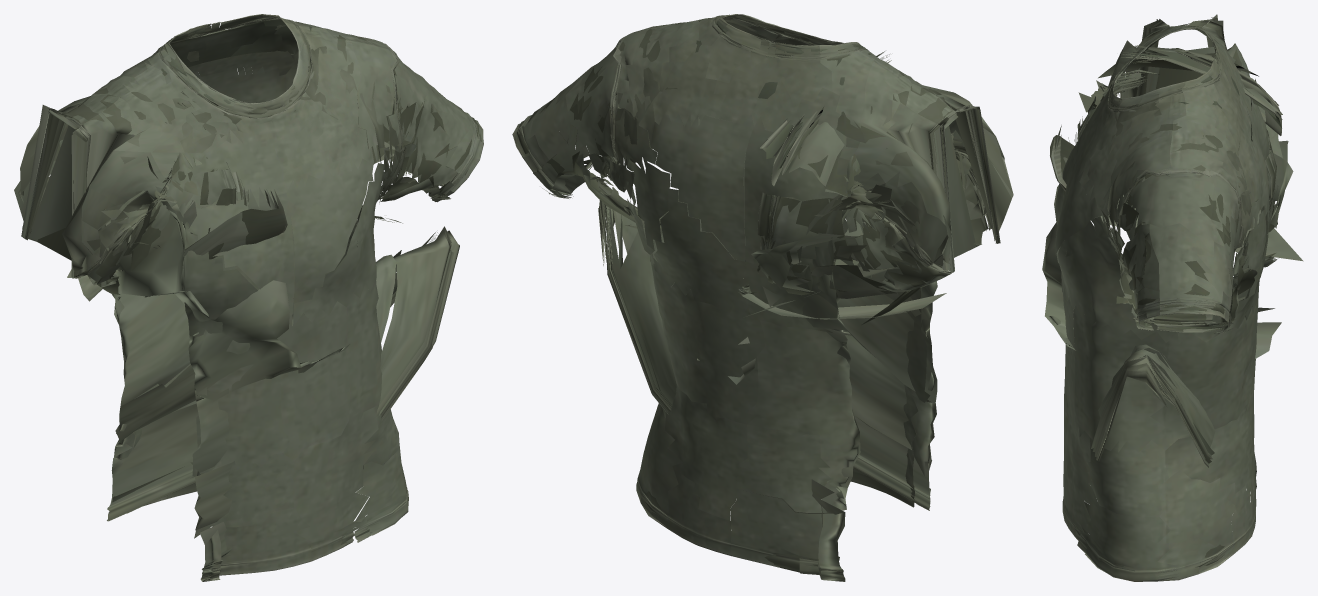
Rendered from dante.glb.
The picture shows the model from 3 angles, left to right: view 1: azimuth 30°, elevation 25°; view 2: azimuth 150°, elevation 25°; view 3: azimuth 270°, elevation 25°; orthographic projection. The views are drawn at different scales.
Visible parts, largest first — view 1: geometry_0; view 2: geometry_0; view 3: geometry_0.
Part boxes in pixels (x1,y1,x2,y2): geometry_0: [14, 14, 483, 581]; geometry_0: [512, 14, 1013, 581]; geometry_0: [1042, 14, 1303, 581].
Bounding box in the file's own units: 0.672 × 0.7047 × 0.3597.
Materials: 1 (1 with a texture image).
